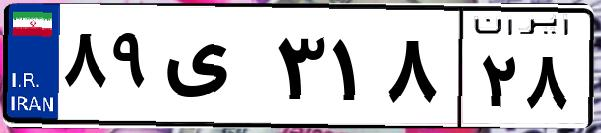1: (330, 28, 385, 110)
2: (475, 38, 525, 113)
3: (270, 28, 330, 110)
8: (385, 28, 445, 110), (57, 26, 110, 100), (525, 38, 570, 115)
9: (110, 28, 158, 98)
ی: (158, 20, 270, 120)
